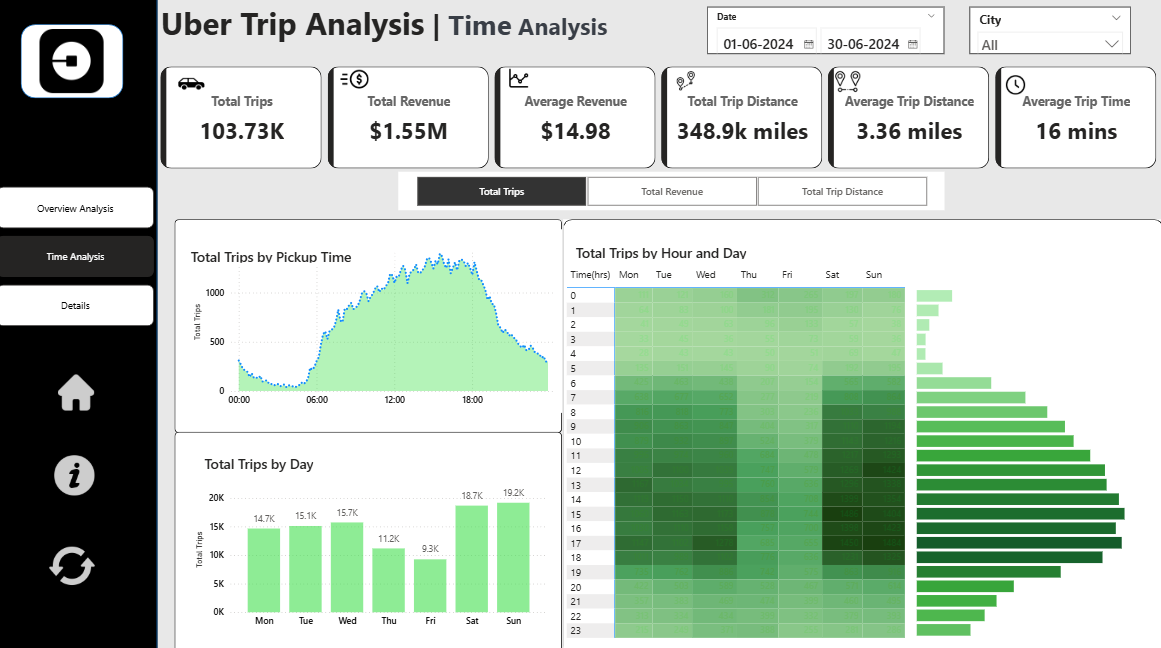

Layout of this report page (visuals, bound fields, positions):
{"tool":"powerbi","page":{"name":"Time Analysis","canvas":[1600,900],"ordinal":1},"visuals":[{"type":"shape","box":[32.1,35.6,140.8,101.6],"z":0,"group":"g1"},{"type":"shape","box":[243.6,303.6,531.7,293.3],"z":0},{"type":"shape","box":[0,0,220,900.5],"z":1000},{"type":"image","box":[46.5,38.1,112,97.8],"z":1000,"group":"g1"},{"type":"textbox","box":[219.6,0,909.1,152.7],"z":2000},{"type":"cardVisual","fields":{"Data":["Trip Details.Total Trips","Trip Details.Total Revenue","Trip Details.Average Revenue","Trip Details.Total Trip Distance","Trip Details.Average Trip Distance","Trip Details.Average Trip Time"]},"box":[219.6,90,1381,150],"z":3000},{"type":"image","box":[492.3,415.1,382.5,12],"z":4000},{"type":"image","box":[1363.6,101.2,68.6,36],"z":5000},{"type":"image","box":[1128.6,92.6,77.2,44.6],"z":6000},{"type":"image","box":[928,89.2,36,48],"z":7000},{"type":"image","box":[696.4,82.3,39.5,54.9],"z":8000},{"type":"image","box":[243.6,82.3,46.3,70.3],"z":9000},{"type":"image","box":[466.6,85.8,48,51.5],"z":10000},{"type":"slicer","fields":{"Values":["Dynamic Measure.Dynamic Measure"]},"box":[550.6,238.4,749.6,53.2],"z":11000},{"type":"slicer","fields":{"Values":["Location Table.City"]},"box":[1334.5,12,221.3,65.2],"z":12000},{"type":"slicer","fields":{"Values":["Calendar Table.Date"]},"box":[974.3,12,325.9,65.2],"z":13000},{"type":"areaChart","fields":{"Y":["Trip Details.Total Trips"],"Category":["Trip Details.Pickup Hour (bins)"]},"box":[264.2,317.3,511.2,252.1],"z":14000},{"type":"cardVisual","fields":{"Data":["Trip Details.Title for by pickup time"]},"box":[248.7,317.3,296.7,51.5],"z":15000},{"type":"shape","box":[243.6,595.2,531.7,305.3],"z":16000},{"type":"clusteredColumnChart","fields":{"Y":["Trip Details.Total Trips"],"Category":["Calendar Table.Day Name"]},"box":[267.6,656.9,492.3,216.1],"z":17000},{"type":"cardVisual","fields":{"Data":["Trip Details.Title for by day"]},"box":[267.6,602.1,283,54.9],"z":18000},{"type":"shape","box":[777,303.6,823.3,596.9],"z":19000},{"type":"pivotTable","fields":{"Values":["Trip Details.Total Trips"],"Rows":["Trip Details.Pickup Hour 24HRS Scale"],"Columns":["Calendar Table.Day Name"]},"box":[777,363.6,535.2,536.9],"z":20000},{"type":"barChart","fields":{"Y":["Trip Details.Total Trips"],"Category":["Trip Details.Pickuptime(hrs)"]},"box":[1257.3,387.7,298.5,512.9],"z":21000},{"type":"cardVisual","fields":{"Data":["Trip Details.Title for by Hour and Day"]},"box":[777,312.2,307,51.5],"z":22000},{"type":"group","id":"g1","title":"Group 2","box":[32.1,35.6,140.8,101.6],"z":23000},{"type":"pageNavigator","box":[0,258.4,215.6,192.4],"z":24000},{"type":"image","box":[79.7,507.9,59.3,66.7],"z":25000},{"type":"image","box":[74.1,622.8,64.9,64.9],"z":26000},{"type":"image","box":[66.7,737.7,72.3,83.4],"z":27000}]}

Visuals, with their boxes on the page's 1600x900 design canvas (x1, y1, x2, y2). These are canvas units, not pixel positions in the 1161x648 screenshot, which may show the page scaled, cropped or inside an application window:
shape: Rect(32, 36, 173, 137)
shape: Rect(244, 304, 775, 597)
shape: Rect(0, 0, 220, 900)
image: Rect(46, 38, 158, 136)
textbox: Rect(220, 0, 1129, 153)
cardVisual - Trip Details.Total Trips x Trip Details.Total Revenue: Rect(220, 90, 1601, 240)
image: Rect(492, 415, 875, 427)
image: Rect(1364, 101, 1432, 137)
image: Rect(1129, 93, 1206, 137)
image: Rect(928, 89, 964, 137)
image: Rect(696, 82, 736, 137)
image: Rect(244, 82, 290, 153)
image: Rect(467, 86, 515, 137)
slicer - Dynamic Measure.Dynamic Measure: Rect(551, 238, 1300, 292)
slicer - Location Table.City: Rect(1334, 12, 1556, 77)
slicer - Calendar Table.Date: Rect(974, 12, 1300, 77)
areaChart - Trip Details.Total Trips x Trip Details.Pickup Hour (bins): Rect(264, 317, 775, 569)
cardVisual - Trip Details.Title for by pickup time: Rect(249, 317, 545, 369)
shape: Rect(244, 595, 775, 900)
clusteredColumnChart - Trip Details.Total Trips x Calendar Table.Day Name: Rect(268, 657, 760, 873)
cardVisual - Trip Details.Title for by day: Rect(268, 602, 551, 657)
shape: Rect(777, 304, 1600, 900)
pivotTable - Trip Details.Total Trips x Trip Details.Pickup Hour 24HRS Scale: Rect(777, 364, 1312, 900)
barChart - Trip Details.Total Trips x Trip Details.Pickuptime(hrs): Rect(1257, 388, 1556, 901)
cardVisual - Trip Details.Title for by Hour and Day: Rect(777, 312, 1084, 364)
"Group 2" group: Rect(32, 36, 173, 137)
pageNavigator: Rect(0, 258, 216, 451)
image: Rect(80, 508, 139, 575)
image: Rect(74, 623, 139, 688)
image: Rect(67, 738, 139, 821)
